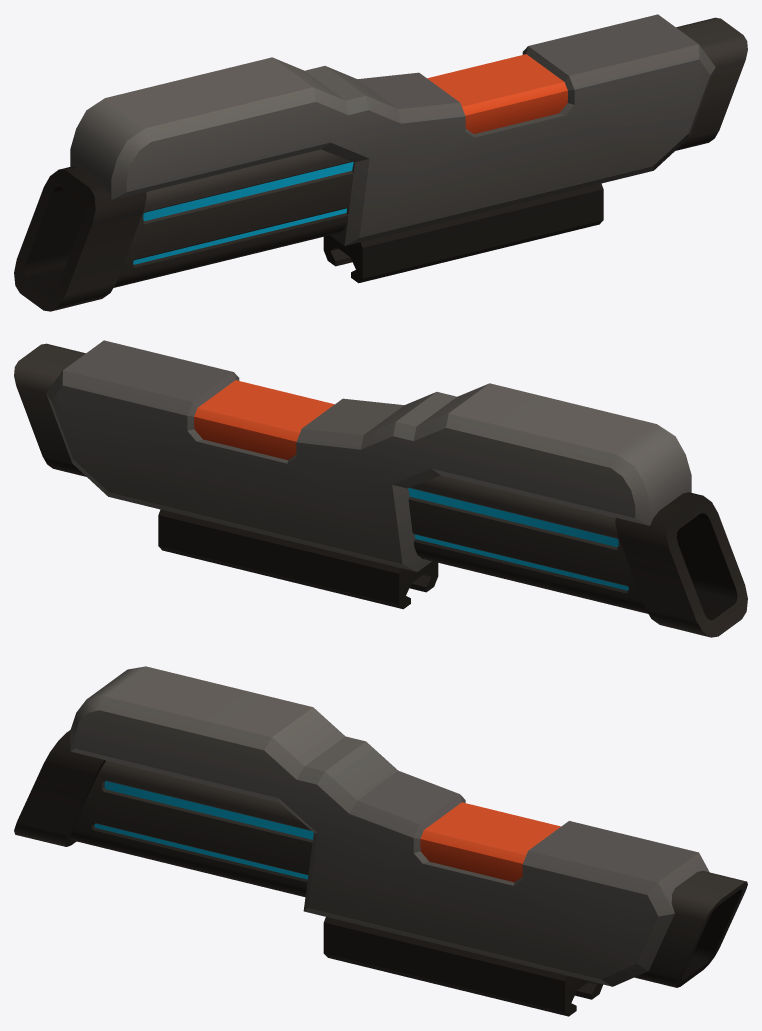
Rendered from Sight_08.fbx.
The picture shows the model from 3 angles, top to bottom: view 1: azimuth 30°, elevation 25°; view 2: azimuth 150°, elevation 25°; view 3: azimuth 330°, elevation 25°; orthographic projection.
Visible parts, largest first — view 1: Sight_08; view 2: Sight_08; view 3: Sight_08.
Boxes of the visible parts, x1,y1,x2,y2 form: Sight_08: [14, 14, 747, 311]; Sight_08: [14, 340, 747, 637]; Sight_08: [14, 666, 747, 1016].
Size of the model in its own units: 40.87 by 11.82 by 5.24.
